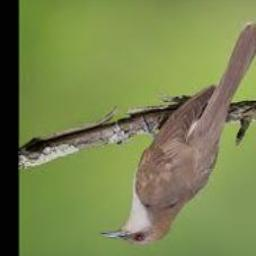Cuckoo: (99, 23, 256, 245)
